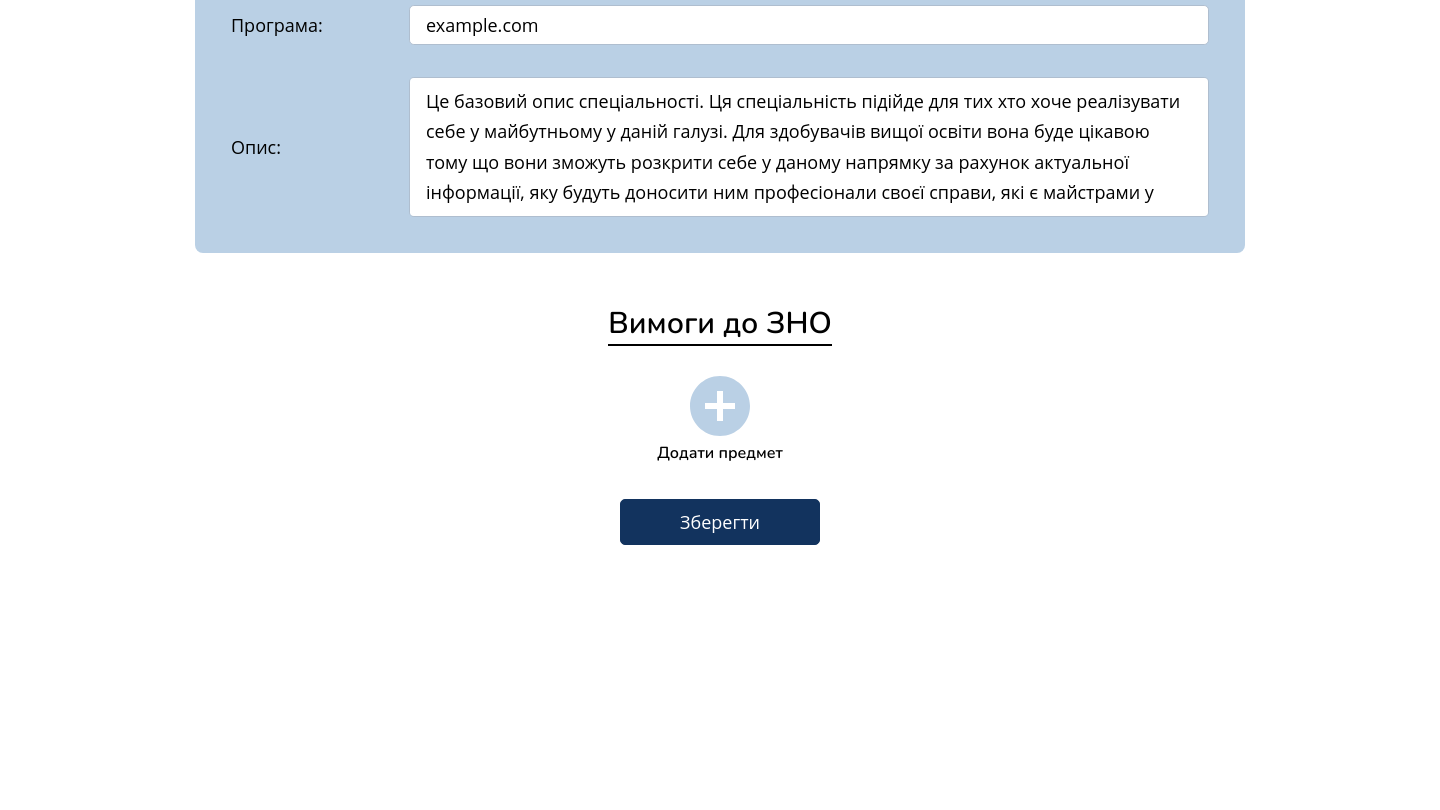
Test: EditSpecialty › Exam Requirements › possibility to close a window of a choice of subjects
(page scrolled)
Step 1. Click the icon → coordinates (720, 406), box [690,376,750,436]
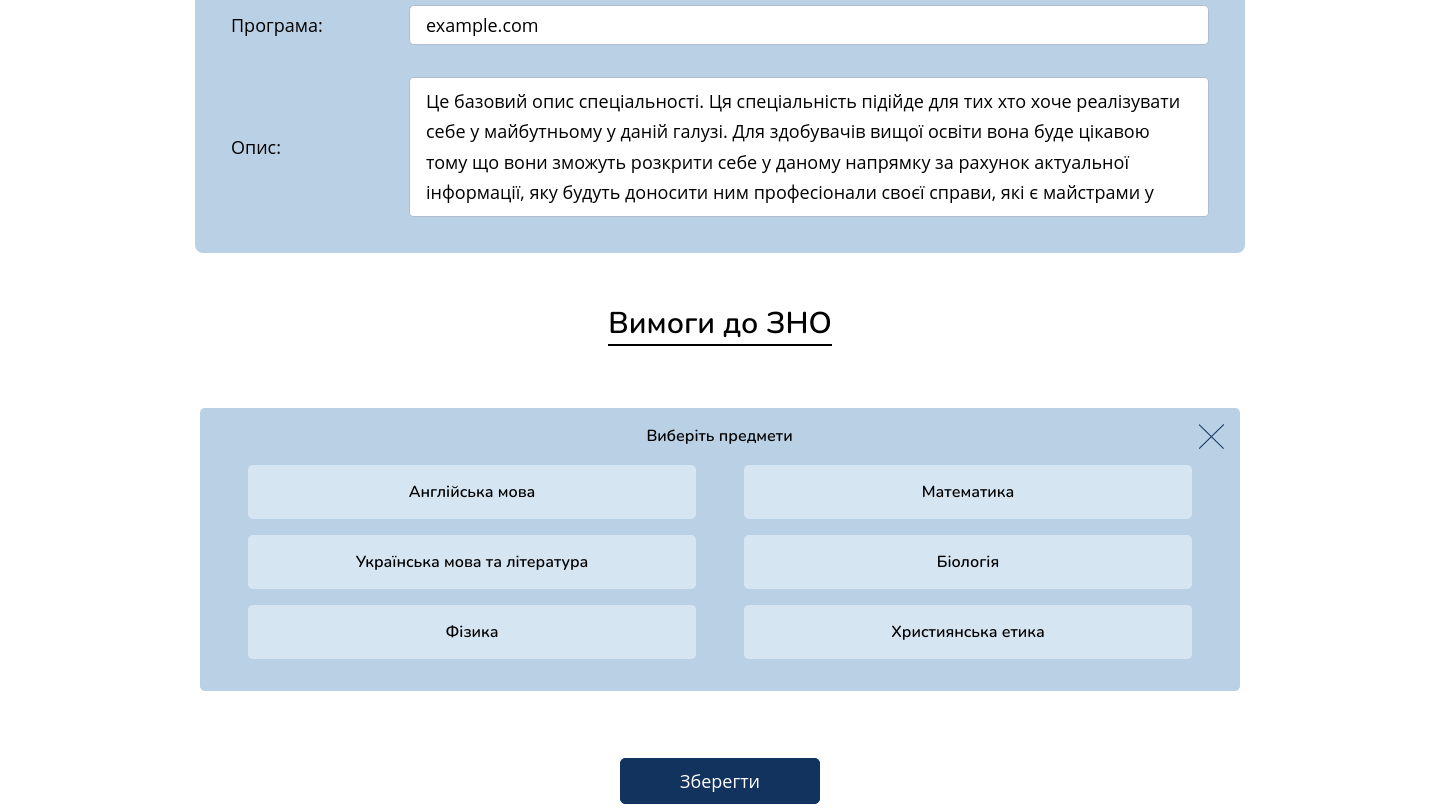
Check: the text "Виберіть предмети" is shown, box [646,425,793,447]
Step 2. Click the icon with class "closeContainerIcon" → coordinates (1212, 436), box [1199,424,1224,449]
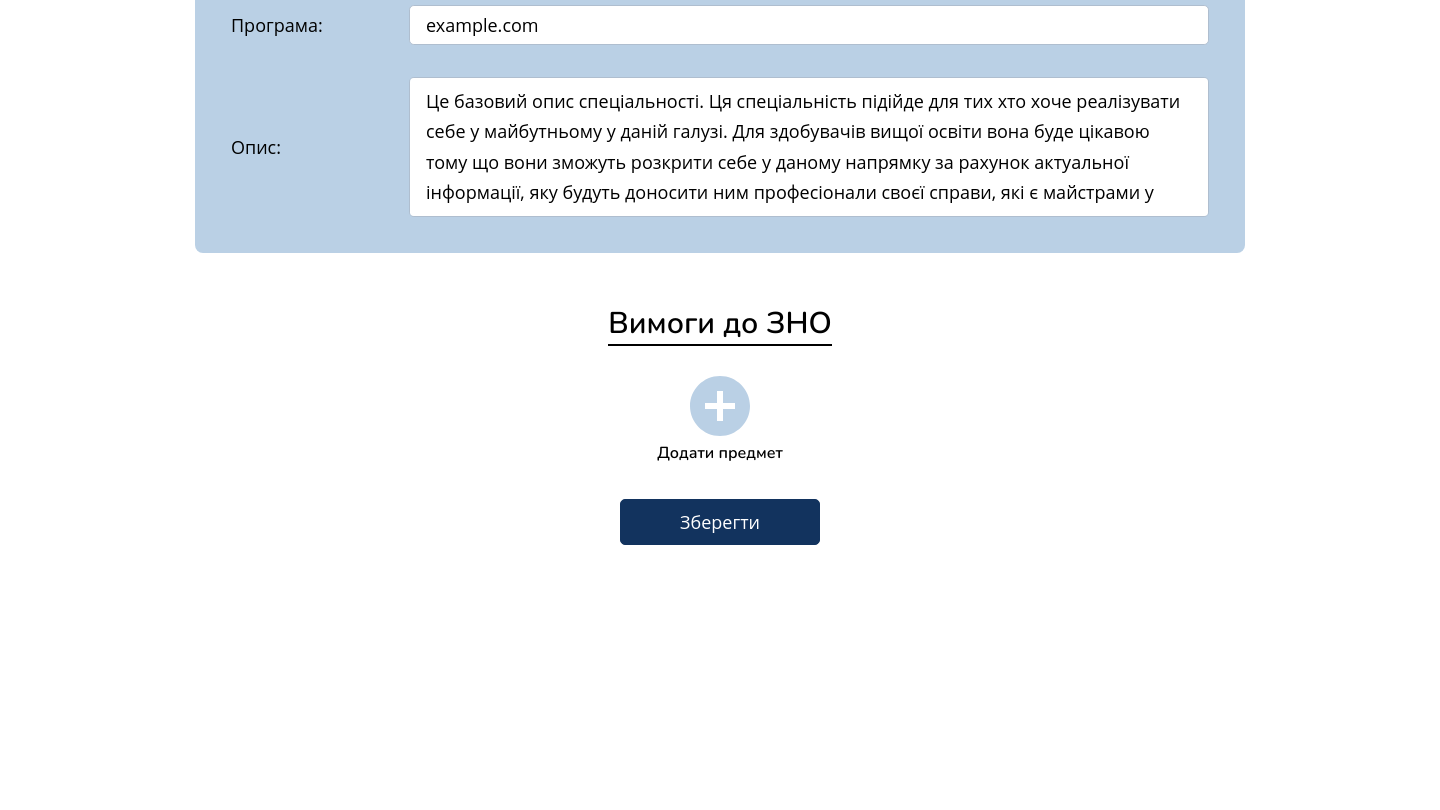
Check: the text "Додати предмет" is shown, box [657,442,783,464]
